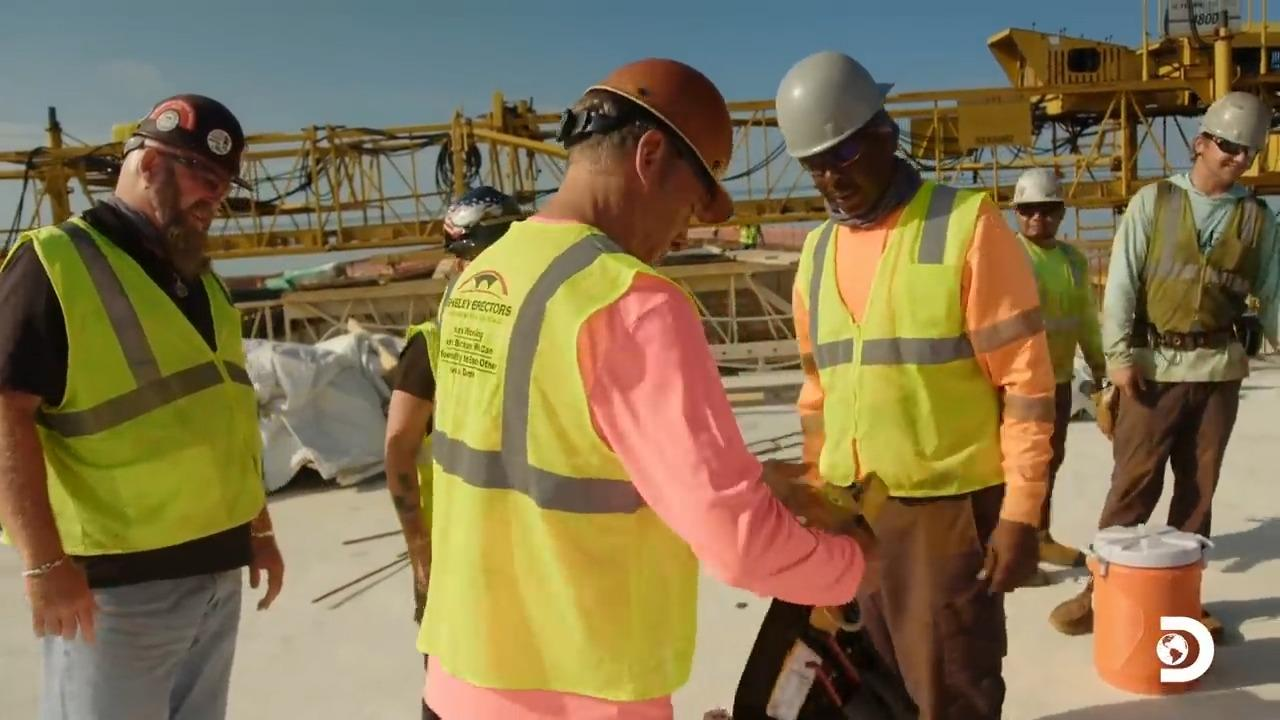Helmet: (560, 57, 733, 183), (774, 50, 894, 158), (124, 93, 248, 188), (441, 185, 526, 260), (1198, 90, 1271, 149), (1010, 167, 1065, 206)
Person: (413, 56, 874, 719), (766, 52, 1049, 720), (0, 92, 285, 719), (1047, 90, 1279, 641), (1008, 167, 1112, 570)
Safety Vest: (453, 301, 699, 658), (27, 236, 247, 536), (823, 250, 1004, 507), (1131, 200, 1251, 355), (1028, 249, 1085, 370)
bare-arms: (18, 577, 111, 649), (978, 520, 1042, 590), (242, 538, 297, 612), (1103, 357, 1150, 397)
